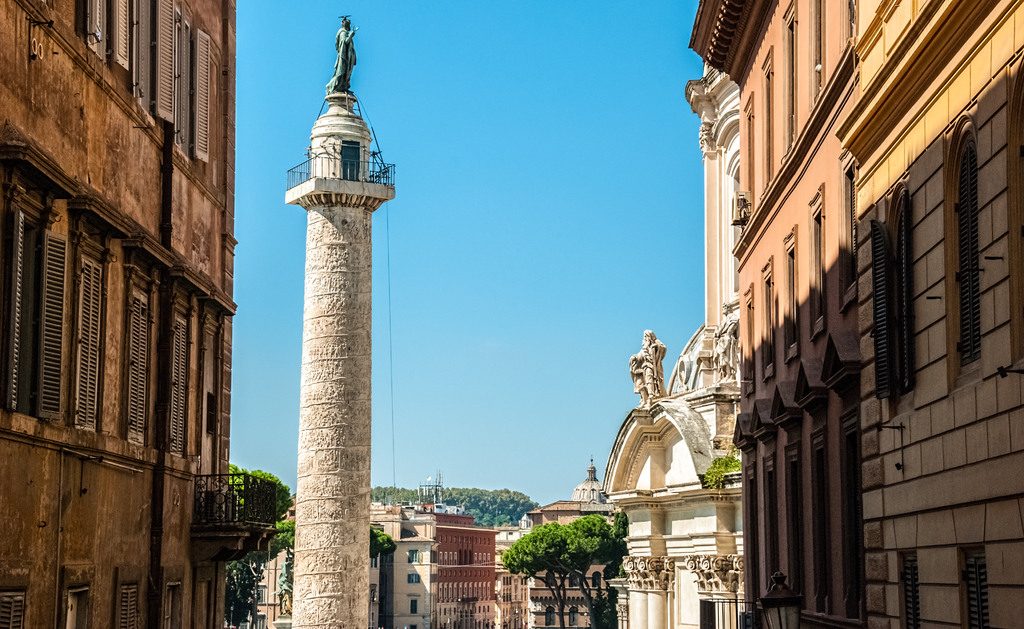Window: (38, 183, 129, 453), (1, 136, 66, 434), (929, 106, 988, 382), (859, 177, 929, 405), (170, 262, 244, 477), (115, 223, 177, 463), (178, 8, 222, 174), (1003, 45, 1023, 367), (137, 0, 174, 127), (779, 1, 805, 165), (797, 1, 834, 108), (759, 57, 787, 197), (72, 0, 128, 64), (739, 89, 759, 232), (65, 564, 97, 628), (115, 572, 145, 628), (6, 573, 33, 628), (166, 572, 192, 628), (849, 0, 863, 52), (406, 548, 419, 563), (404, 575, 423, 584), (414, 596, 419, 617), (402, 625, 418, 628)
